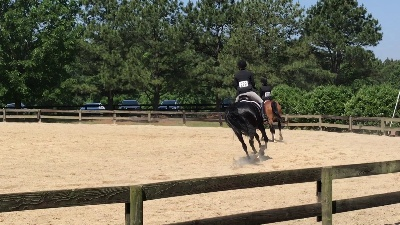jetta: (219, 89, 270, 161)
